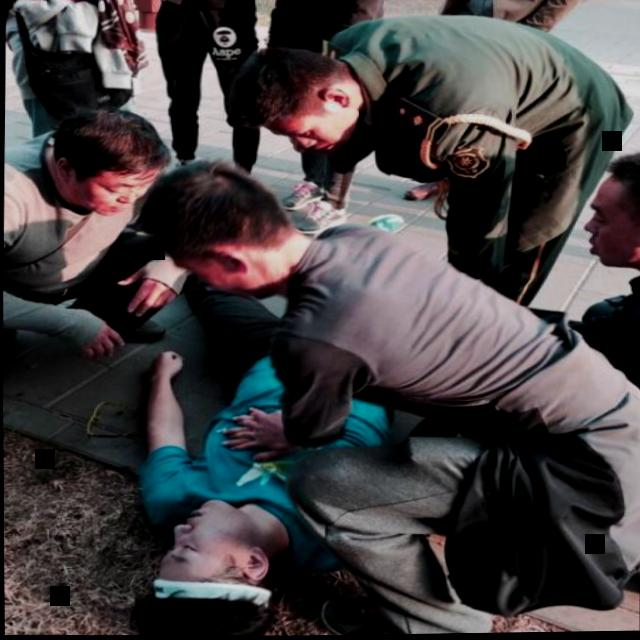Fall-Detected: (119, 273, 383, 639)
